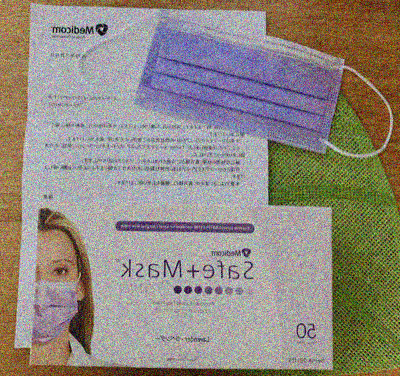with_mask: (32, 257, 78, 346)
